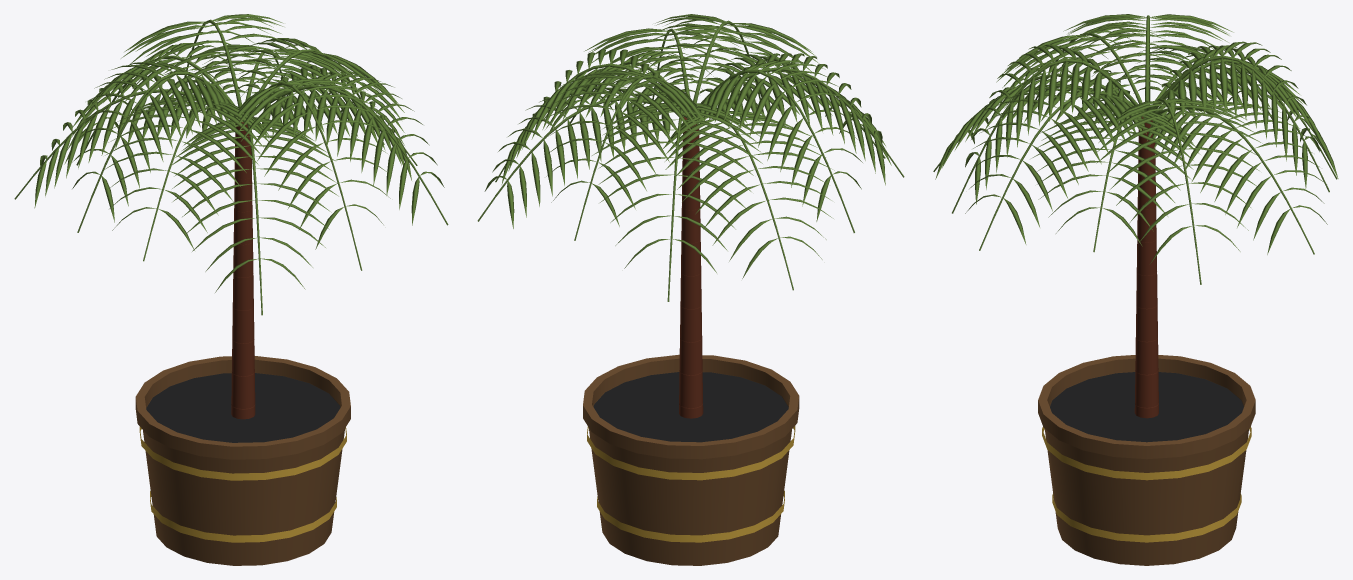
Rendered from parametric-planter-1st.glb.
3 views of the same model, side by side, from view 1: azimuth 30°, elevation 25°; view 2: azimuth 150°, elevation 25°; view 3: azimuth 270°, elevation 25° (orthographic).
Visible parts, largest first — view 1: parametric-planter-1st; view 2: parametric-planter-1st; view 3: parametric-planter-1st.
Part boxes in pixels (x1,y1,x2,y2): parametric-planter-1st: [14, 14, 448, 565]; parametric-planter-1st: [477, 14, 904, 565]; parametric-planter-1st: [933, 14, 1338, 565].
Bounding box in the file's own units: 1.09 × 1.45 × 1.12.
